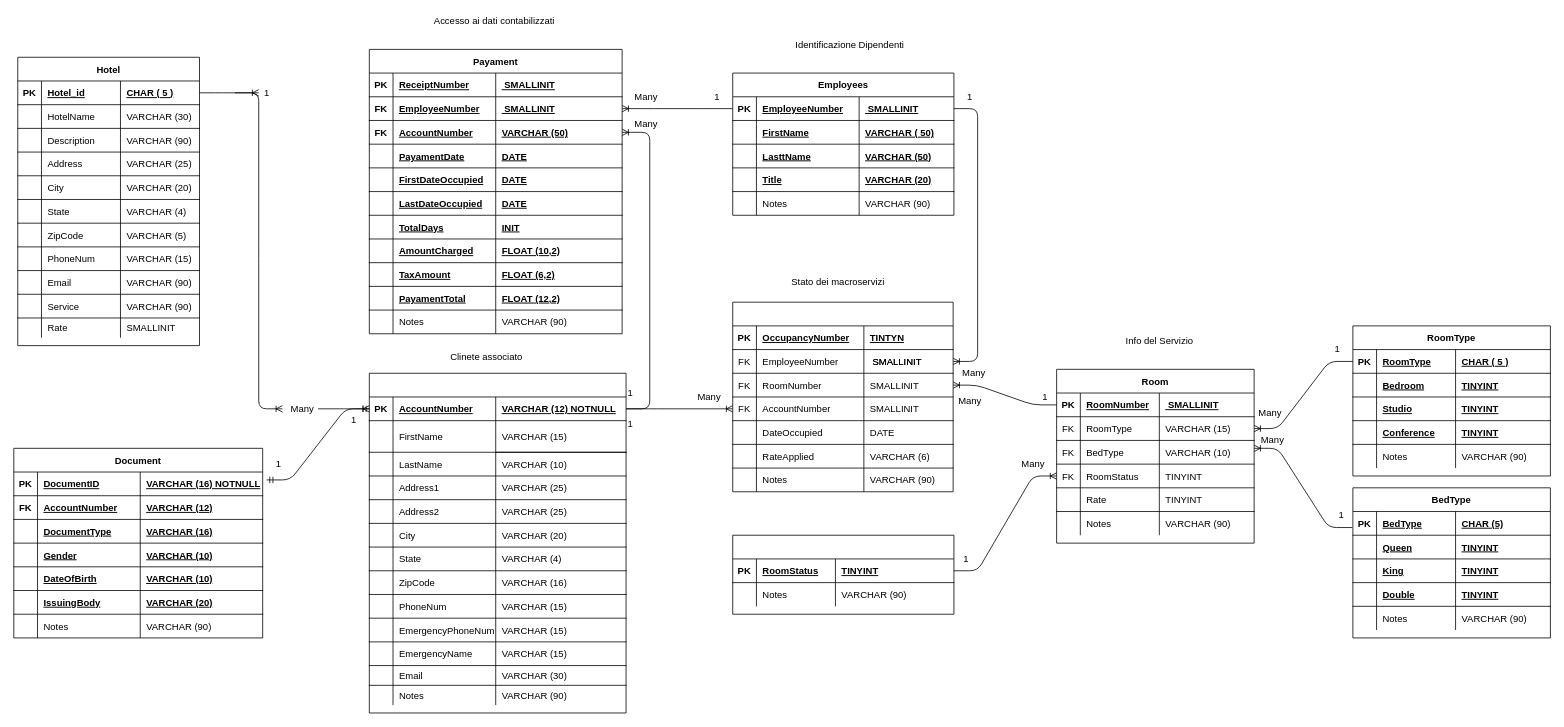
Image size: 1564x727. Some labels were removed from this diagram. The box of each missing label's shape, as (x1, y1, x2, y2) in pixels:
Customers: (369, 372, 626, 713)
Occupancies: (732, 301, 953, 492)
RoomsStatus: (732, 534, 954, 614)
